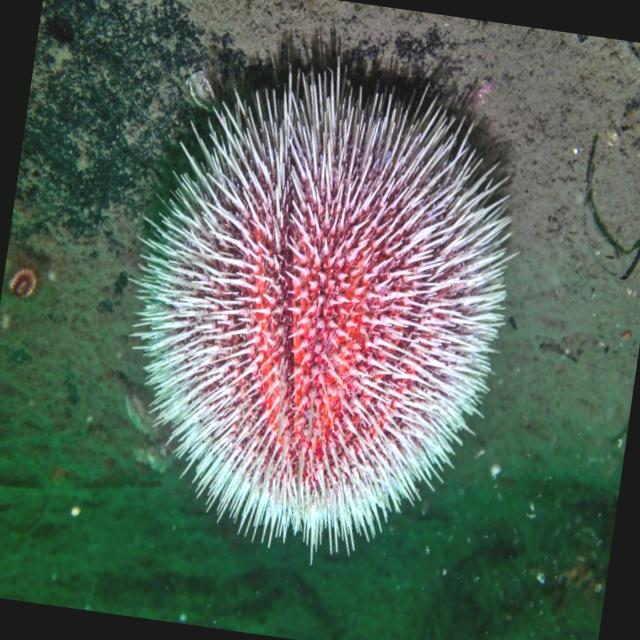Deniz Kestanesi: (90, 29, 544, 586)
